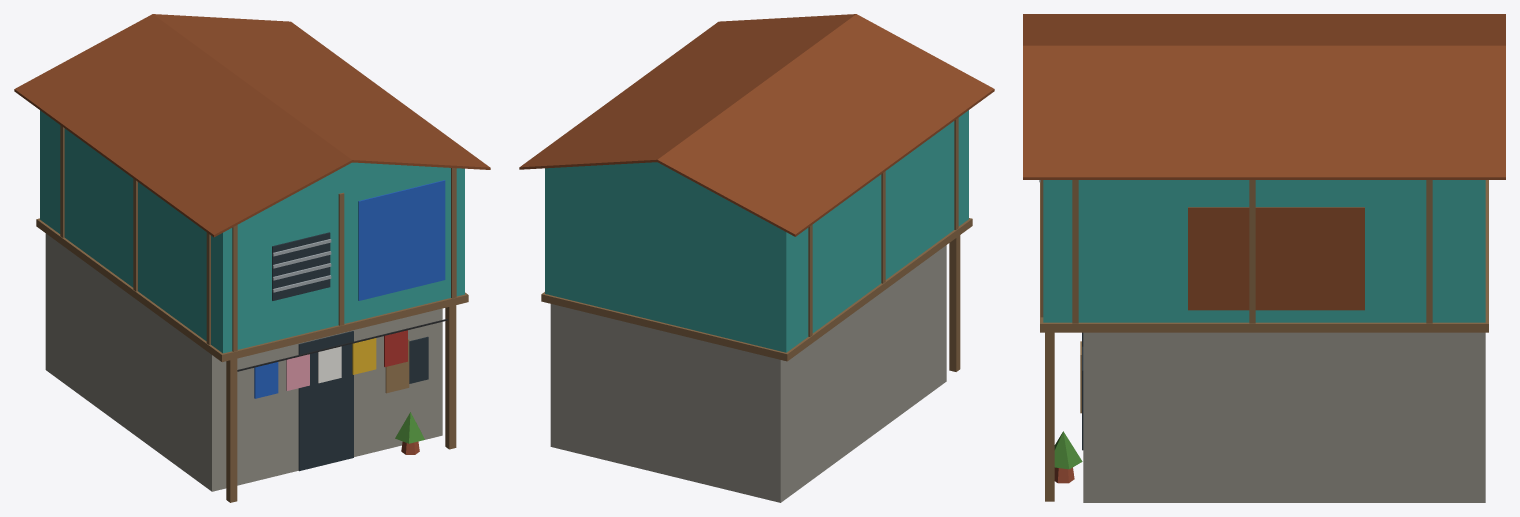
The model's file is BAY_I_Shanty2F_T.glb.
The picture shows the model from 3 angles, left to right: view 1: azimuth 30°, elevation 25°; view 2: azimuth 150°, elevation 25°; view 3: azimuth 270°, elevation 25°; orthographic projection. The views are drawn at different scales.
Visible parts, largest first — view 1: BAY_I_Shanty2F_T; view 2: BAY_I_Shanty2F_T; view 3: BAY_I_Shanty2F_T.
Part boxes in pixels (x1,y1,x2,y2): BAY_I_Shanty2F_T: [14, 14, 490, 502]; BAY_I_Shanty2F_T: [519, 14, 994, 502]; BAY_I_Shanty2F_T: [1023, 14, 1505, 502].
Bounding box in the file's own units: 4.8 × 5.34 × 6.
Materials: 1 (1 with a texture image).
